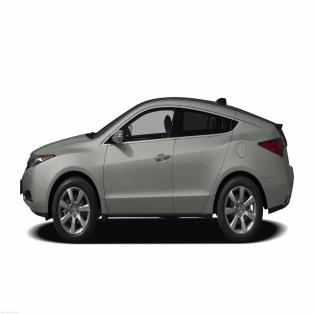Auto: (20, 98, 293, 242)
